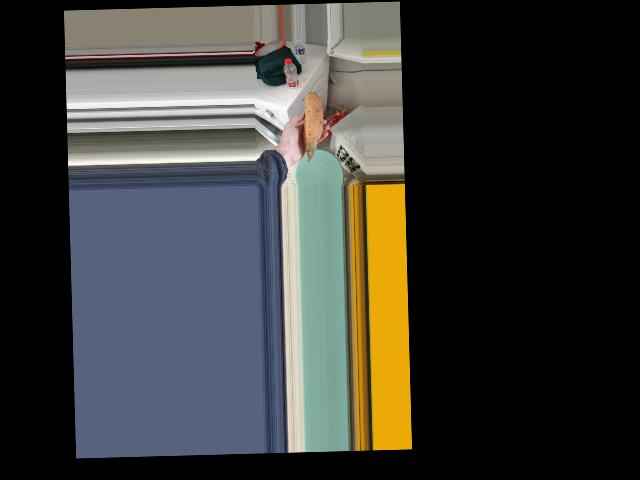sweet_potato: (300, 91, 324, 159)
